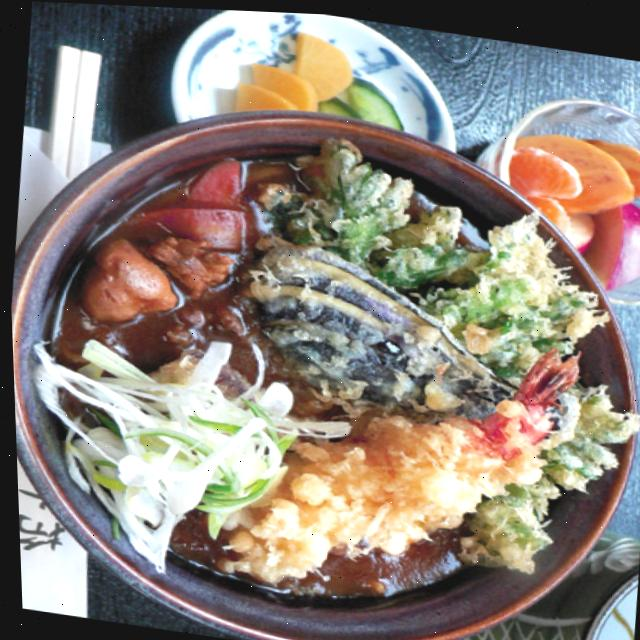面条主食: (3, 95, 640, 640)
